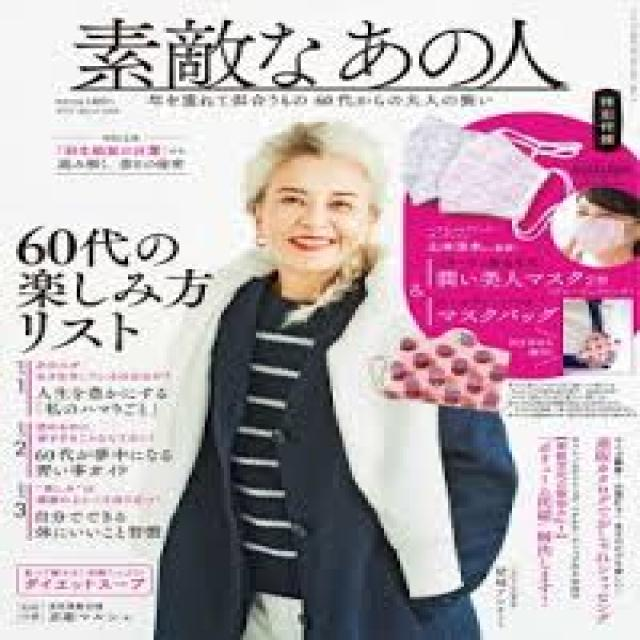paper: (19, 18, 624, 640)
